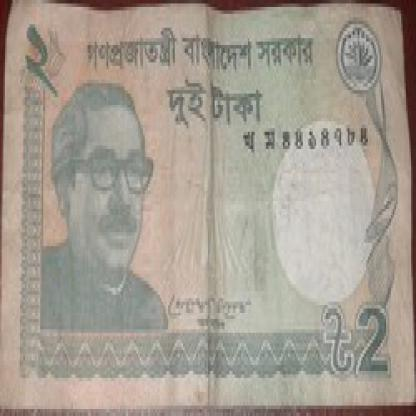two taka: (318, 288, 398, 385), (20, 10, 72, 111)
